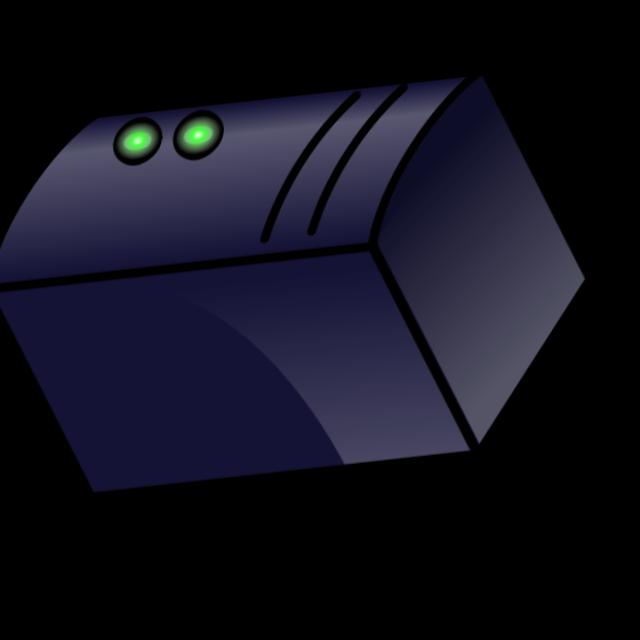Server: (0, 0, 630, 623)
